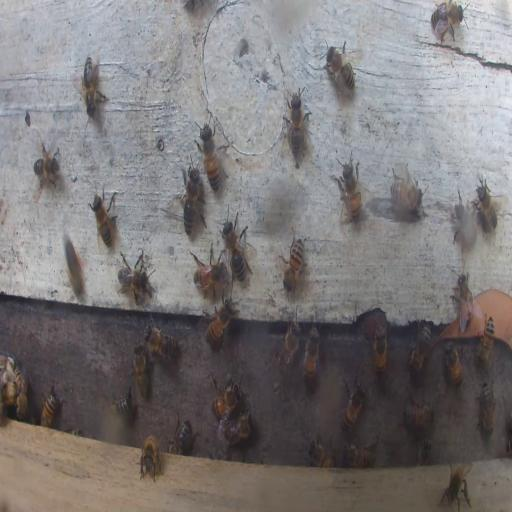nonpollenbee: (115, 251, 157, 306), (220, 210, 252, 280), (180, 166, 207, 237), (323, 40, 357, 96), (286, 83, 310, 162), (32, 139, 63, 196), (338, 152, 363, 222), (89, 189, 118, 249), (440, 462, 474, 512), (197, 122, 220, 192), (192, 247, 223, 297), (389, 172, 424, 216), (79, 56, 103, 116), (430, 2, 466, 42), (340, 377, 366, 432), (474, 175, 498, 234), (278, 314, 301, 372), (282, 234, 304, 294), (144, 323, 178, 361), (205, 303, 233, 347), (210, 380, 240, 421), (408, 323, 432, 372), (455, 276, 476, 332), (139, 434, 163, 481), (452, 197, 473, 249), (168, 414, 194, 454), (402, 397, 434, 429), (132, 342, 149, 398), (478, 380, 495, 436), (303, 326, 319, 384), (224, 409, 252, 442), (40, 382, 60, 428), (444, 343, 464, 387), (476, 314, 494, 362), (110, 384, 136, 416), (372, 322, 387, 376), (14, 368, 28, 422), (308, 439, 334, 467), (344, 444, 373, 467), (2, 370, 14, 416), (418, 438, 432, 464)
pollenbee: (60, 228, 88, 300)
